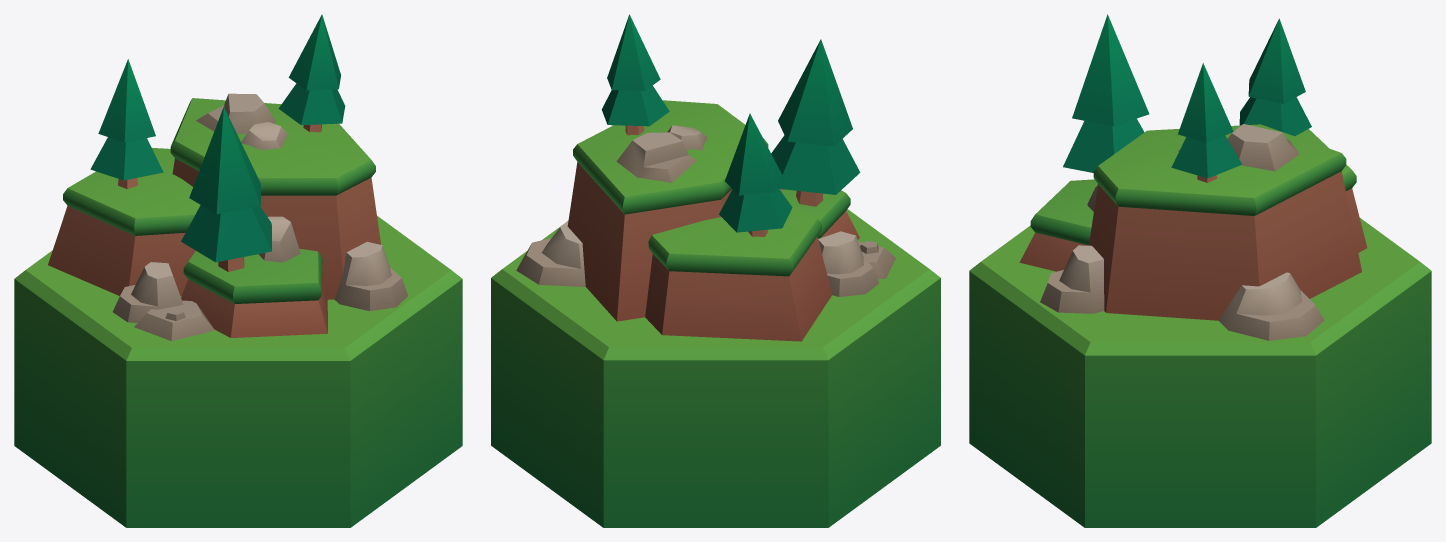
Rendered from hex_hills_a_trees.glb.
3 views of the same model, side by side, from view 1: azimuth 30°, elevation 25°; view 2: azimuth 150°, elevation 25°; view 3: azimuth 270°, elevation 25° (orthographic). The views are drawn at different scales.
Parts seen in each view (by area): view 1: hex_hills_a_trees; view 2: hex_hills_a_trees; view 3: hex_hills_a_trees.
Part boxes in pixels (x1,y1,x2,y2): hex_hills_a_trees: (14, 14, 462, 527); hex_hills_a_trees: (491, 14, 940, 527); hex_hills_a_trees: (969, 14, 1431, 527).
Bounding box in the file's own units: 1 × 1.17 × 1.15.
1 material, 1 textured.
